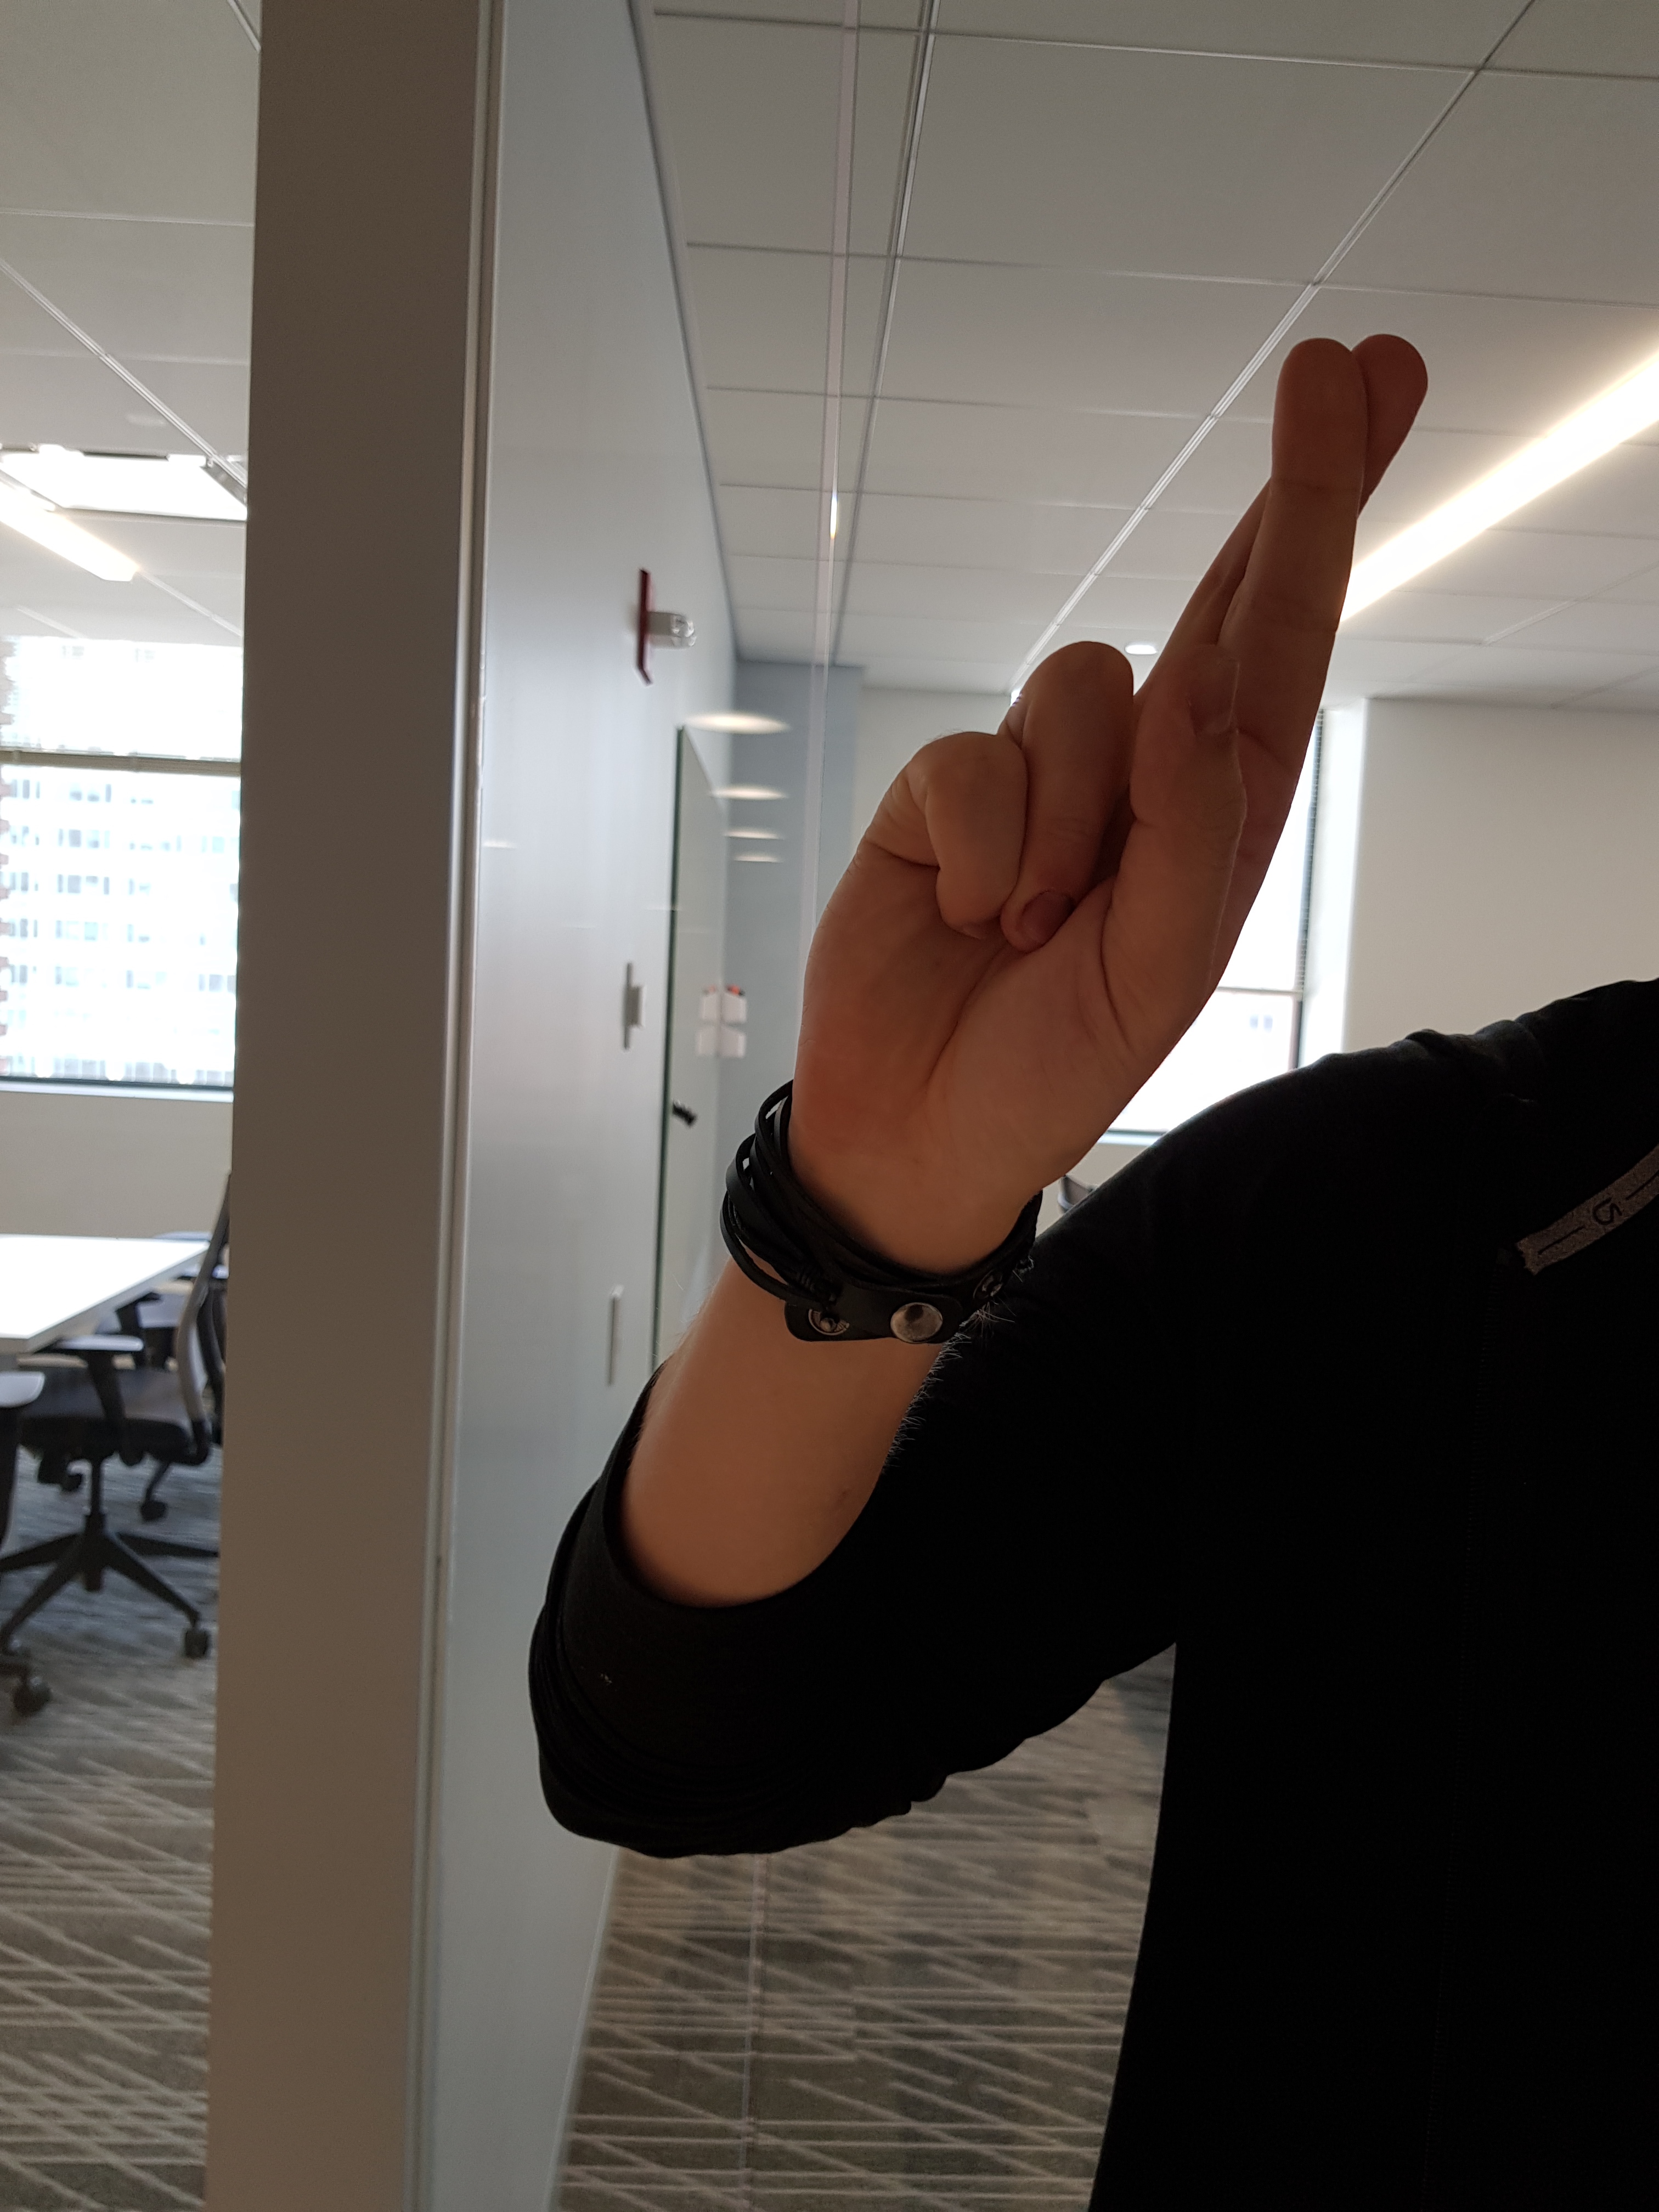r: (788, 296, 1427, 1275)
